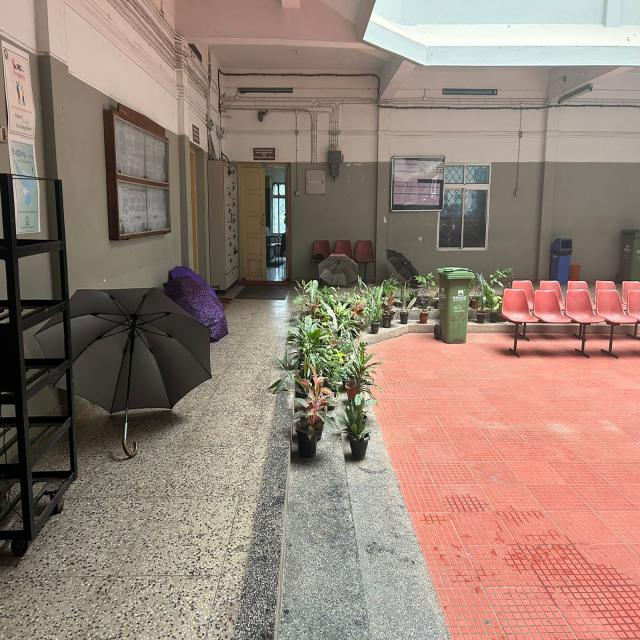chair ahead at: (502, 278, 536, 333), (538, 285, 570, 329), (571, 285, 598, 326)
dustbin ahead at: (431, 258, 470, 346)
plant ahead at: (296, 320, 370, 462)
